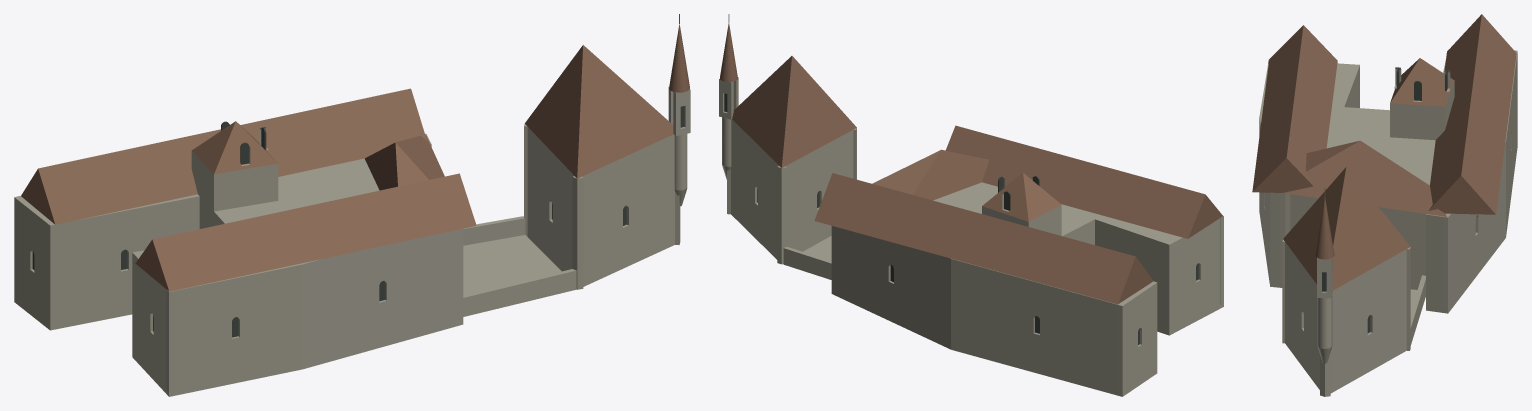
File: palais-de-l-isle-annecy-near.glb
3 views of the same model, side by side, from view 1: azimuth 30°, elevation 25°; view 2: azimuth 150°, elevation 25°; view 3: azimuth 270°, elevation 25° (orthographic). The views are drawn at different scales.
Parts seen in each view (by area): view 1: palais-de-l-isle-annecy-0-stone, palais-de-l-isle-annecy-0-roof, palais-de-l-isle-annecy-0-glass; view 2: palais-de-l-isle-annecy-0-stone, palais-de-l-isle-annecy-0-roof, palais-de-l-isle-annecy-0-glass; view 3: palais-de-l-isle-annecy-0-roof, palais-de-l-isle-annecy-0-stone, palais-de-l-isle-annecy-0-glass.
Boxes of the visible parts, x1=… form: palais-de-l-isle-annecy-0-stone: x1=14, y1=87, x2=690, y2=396; palais-de-l-isle-annecy-0-roof: x1=21, y1=24, x2=689, y2=291; palais-de-l-isle-annecy-0-glass: x1=32, y1=106, x2=684, y2=337; palais-de-l-isle-annecy-0-stone: x1=719, y1=77, x2=1223, y2=396; palais-de-l-isle-annecy-0-roof: x1=720, y1=23, x2=1222, y2=304; palais-de-l-isle-annecy-0-glass: x1=724, y1=93, x2=1198, y2=344; palais-de-l-isle-annecy-0-roof: x1=1252, y1=14, x2=1516, y2=290; palais-de-l-isle-annecy-0-stone: x1=1259, y1=49, x2=1517, y2=396; palais-de-l-isle-annecy-0-glass: x1=1322, y1=67, x2=1447, y2=333.
Size of the model in its own units: 48.42 by 18.5 by 21.28.
